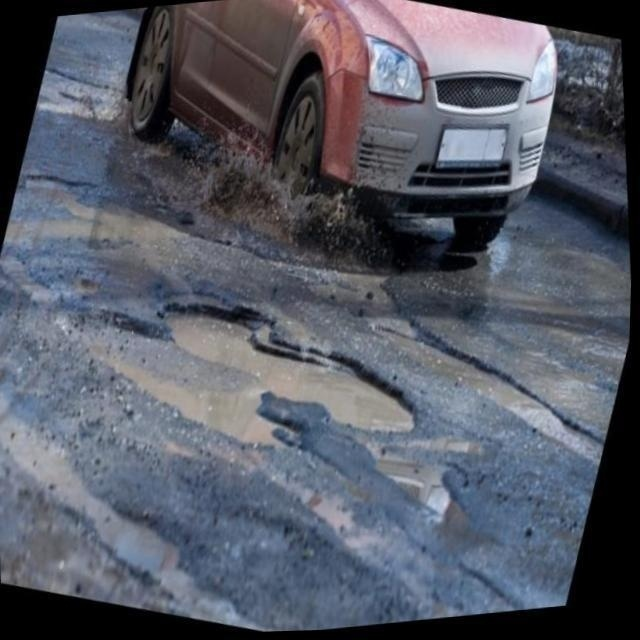pothole: (113, 264, 418, 488), (442, 332, 604, 468), (24, 162, 156, 253)
